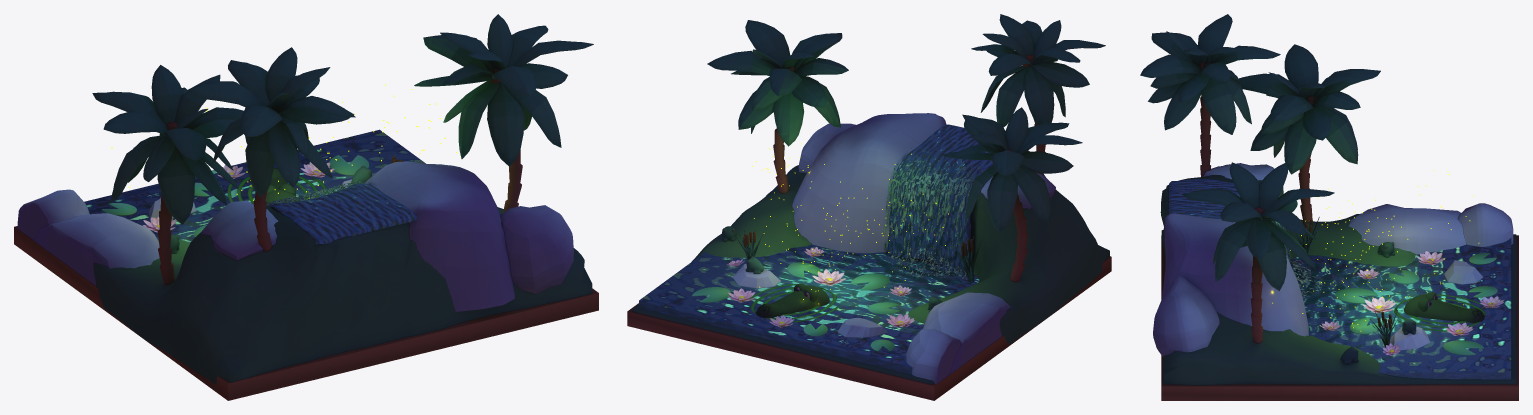
Rendered from kokuo(5).glb.
3 renders of one model, left to right at view 1: azimuth 30°, elevation 25°; view 2: azimuth 150°, elevation 25°; view 3: azimuth 270°, elevation 25°, orthographic. The views are drawn at different scales.
Parts seen in each view (by area): view 1: Cube.007_9, Plane.110_7, Cube.008_6, Plane.061_13, Plane.054_12, object 6; view 2: Plane.110_7, Cube.008_6, Cube.007_9, Plane.061_13, Plane.054_12, object 6, Plane.063_8, Cube.012_14, object 7; view 3: Plane.110_7, Cube.008_6, Cube.007_9, Plane.061_13, Plane.054_12, Plane.063_8, object 7, Cube.012_14.
Part boxes in pixels (x1,y1,x2,y2): Cube.007_9: (14,206,598,400); Plane.110_7: (92,14,593,284); Cube.008_6: (17,153,573,311); Plane.061_13: (84,129,425,242); Plane.054_12: (267,183,416,244); object 6: (266,179,361,205); Plane.110_7: (707,14,1105,312); Cube.008_6: (692,113,1055,384); Cube.007_9: (627,150,1111,400); Plane.061_13: (639,244,979,374); Plane.054_12: (886,124,993,272); object 6: (883,148,986,274); Plane.063_8: (756,285,829,318); Cube.012_14: (884,245,976,279); object 7: (749,284,838,322); Plane.110_7: (1140,14,1437,364); Cube.008_6: (1153,163,1513,357); Cube.007_9: (1160,175,1518,400); Plane.061_13: (1290,238,1511,379); Plane.054_12: (1169,179,1290,263); Plane.063_8: (1404,294,1484,323); object 7: (1394,294,1485,331); Cube.012_14: (1290,258,1323,298).
Bounding box in the file's own units: 16.08 × 10.07 × 14.1.
Materials: 5 (4 with a texture image).
